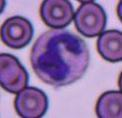N: (30, 28, 90, 84)
